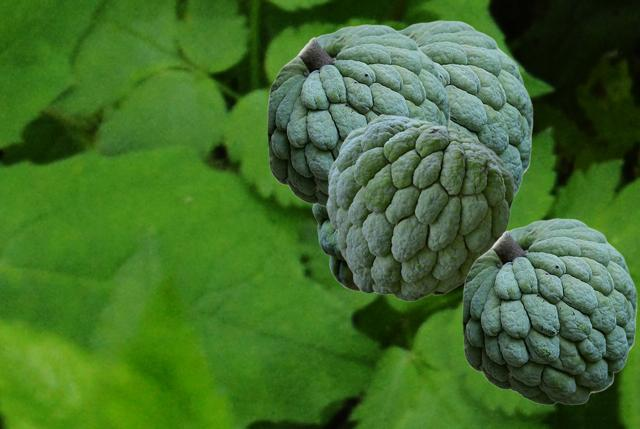atis: (326, 114, 513, 300), (267, 24, 449, 207), (462, 218, 636, 404), (397, 20, 532, 196), (312, 205, 375, 293)
